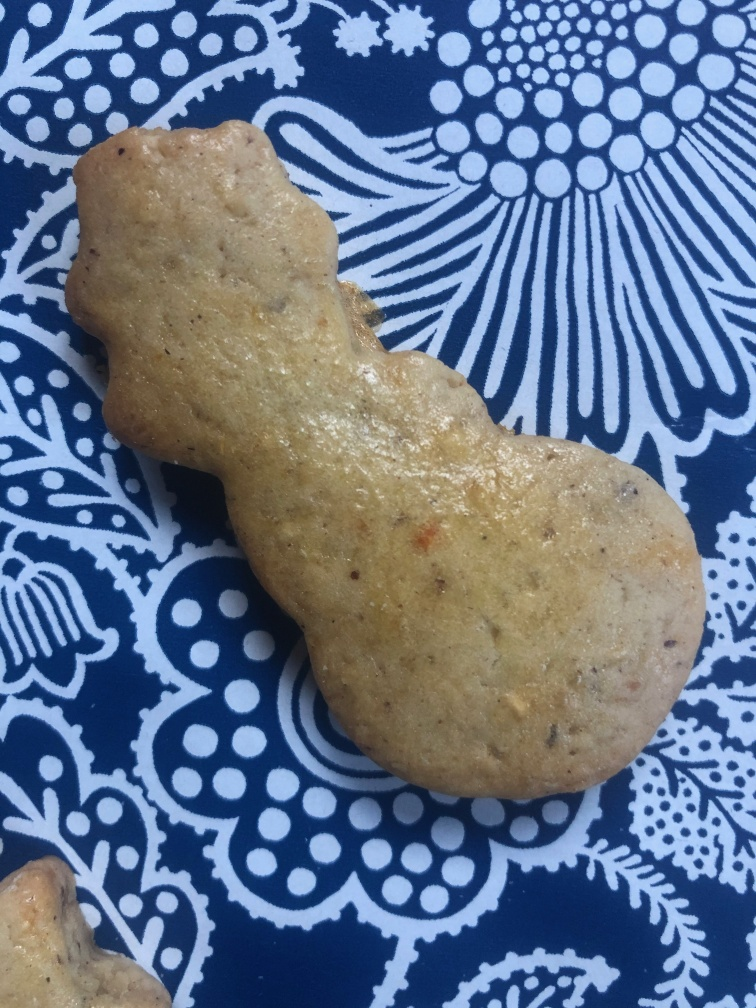snowman: (61, 114, 708, 804)
